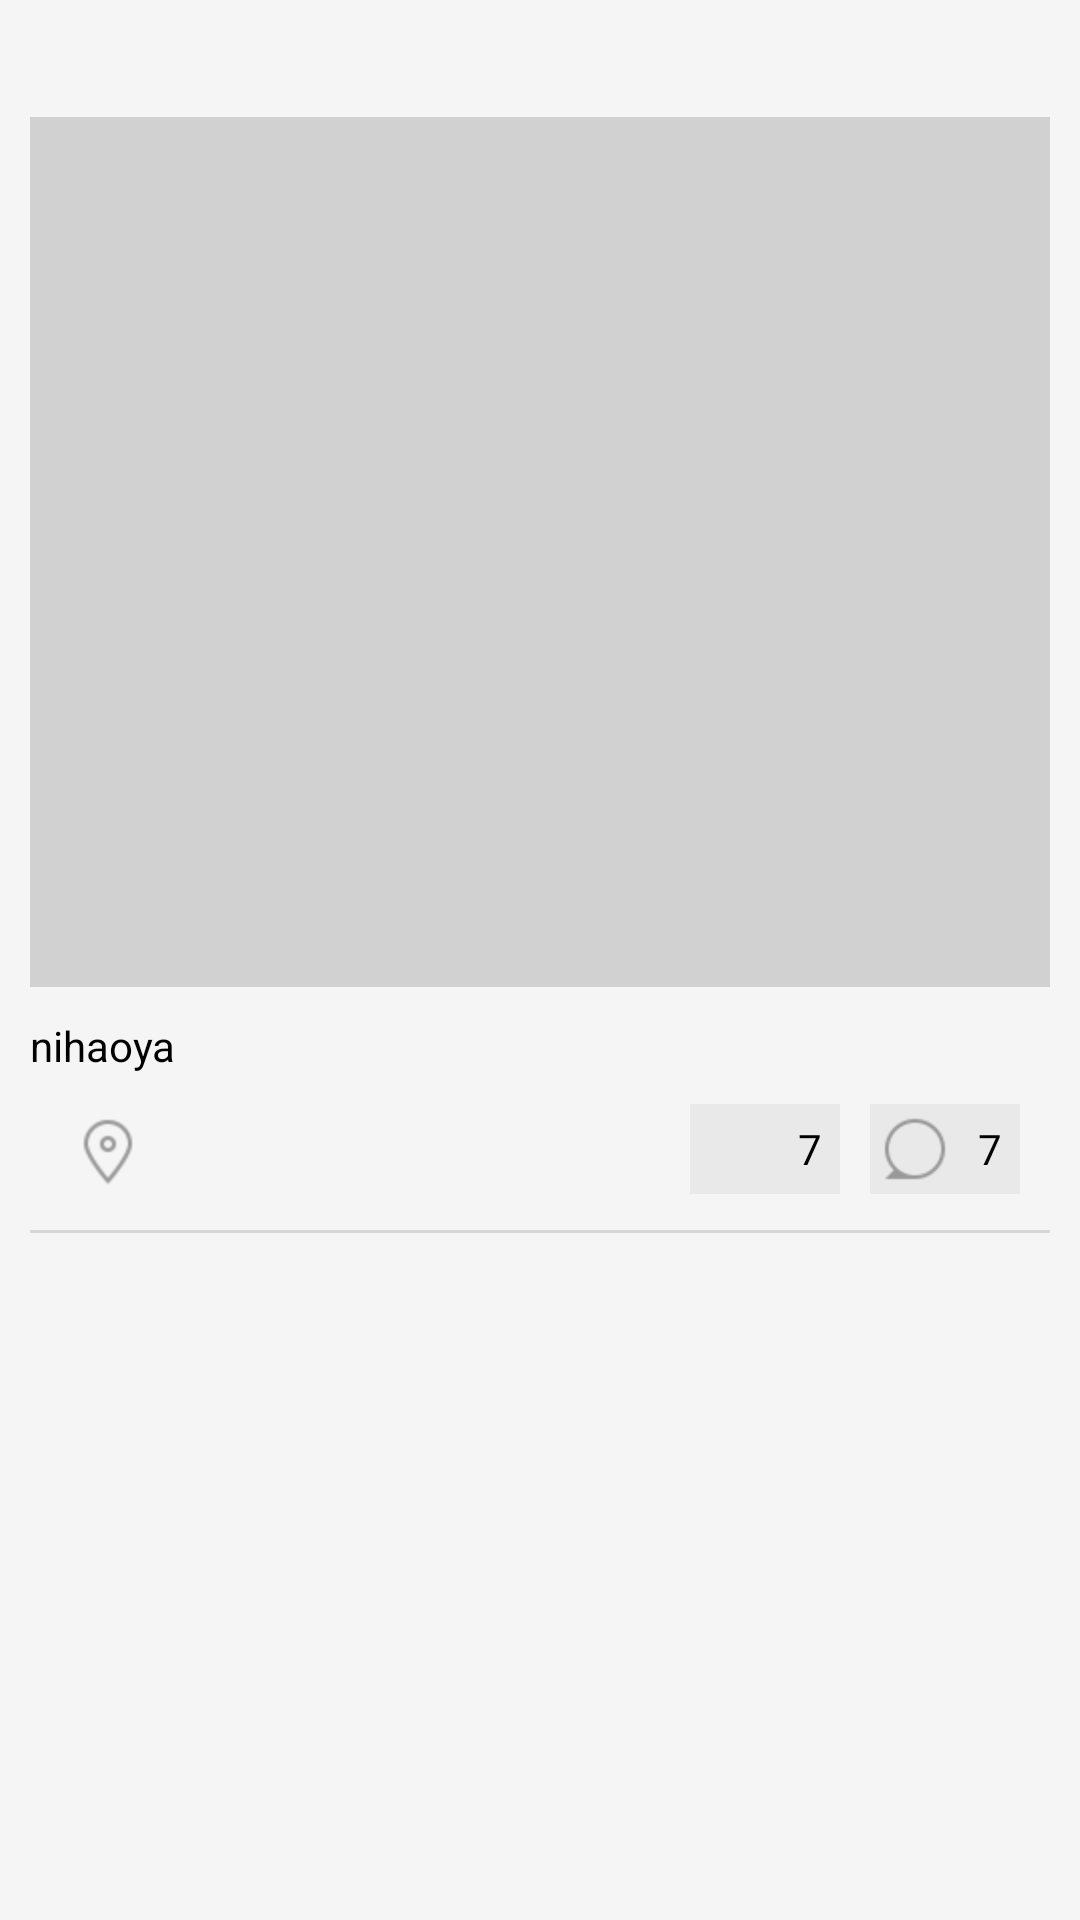

Named icons in this screenshot (1080x1920) and their bounding boxes, (x1, y1, x2, y2):
comment: (870, 1104, 960, 1194)
poi: (84, 1120, 132, 1184)
